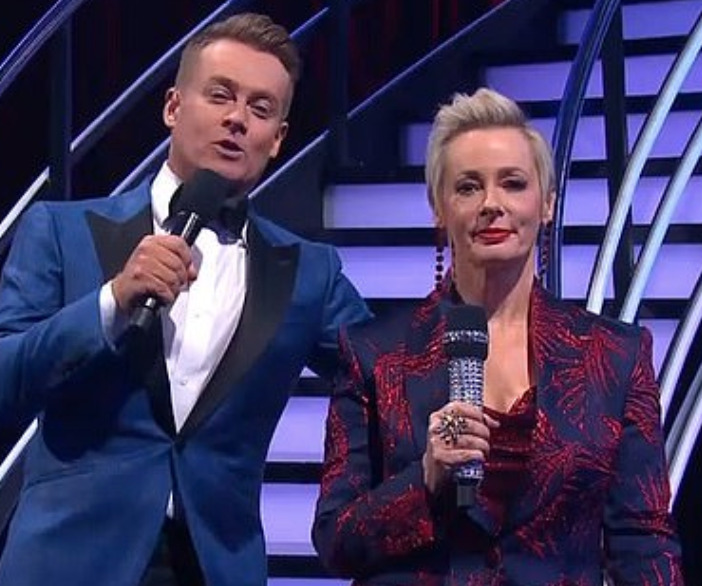Bad: (1, 14, 684, 586)
